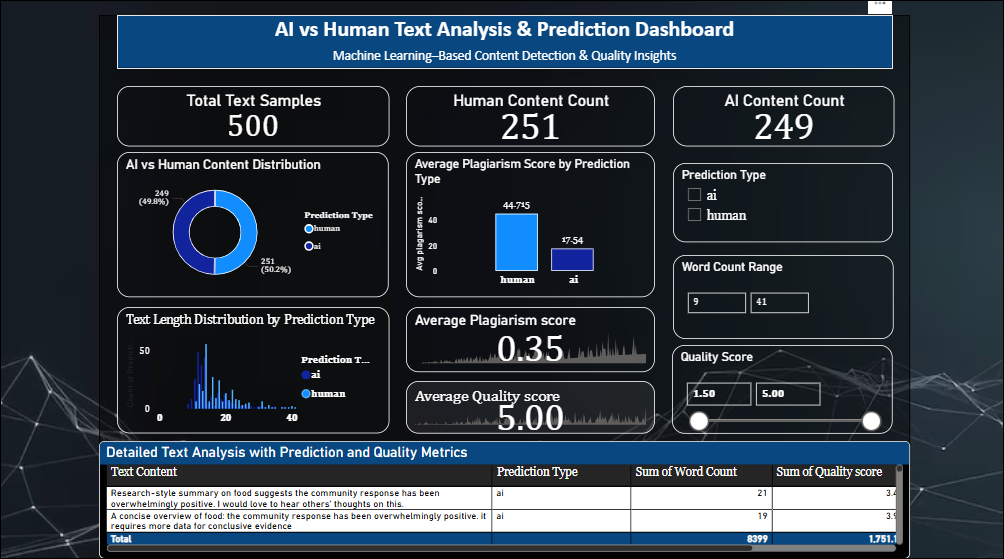

This screenshot's page, from the dashboard's own definition file:
{"tool":"powerbi","page":{"name":"Page 1","canvas":[1280,720],"ordinal":0},"visuals":[{"type":"textbox","box":[127.5,28,1032.7,657.9],"z":0},{"type":"kpi","title":"Total Text Samples","fields":{"Indicator":["CountNonNull(ai_vs_human_dashboard.prediction)"],"TrendLine":["ai_vs_human_dashboard.prediction_Type"]},"box":[149.7,118.8,346.8,77.3],"z":1000},{"type":"kpi","title":"AI Content Count","fields":{"TrendLine":["ai_vs_human_dashboard.prediction_Type"],"Indicator":["CountNonNull(ai_vs_human_dashboard.prediction_Type)"]},"box":[857.8,118.8,282.1,77.3],"z":2000},{"type":"kpi","title":"Human Content Count","fields":{"Indicator":["CountNonNull(ai_vs_human_dashboard.prediction)"],"TrendLine":["ai_vs_human_dashboard.prediction_Type"]},"box":[517.8,118.8,316.9,77.3],"z":3000},{"type":"donutChart","title":"AI vs Human Content Distribution","fields":{"Y":["CountNonNull(ai_vs_human_dashboard.prediction)"],"Category":["ai_vs_human_dashboard.Prediction Type"]},"box":[150.7,202.9,345.8,185.5],"z":4000},{"type":"clusteredColumnChart","title":"Text Length Distribution by Prediction Type","fields":{"Category":["ai_vs_human_dashboard.length_words"],"Y":["CountNonNull(ai_vs_human_dashboard.prediction)"],"Series":["ai_vs_human_dashboard.prediction"]},"box":[149.7,399.9,346.8,161.3],"z":5000},{"type":"tableEx","title":"Detailed Text Analysis with Prediction and Quality Metrics","fields":{"Values":["ai_vs_human_dashboard.clean_text","ai_vs_human_dashboard.prediction","Sum(ai_vs_human_dashboard.length_words)","Sum(ai_vs_human_dashboard.quality_score)","Sum(ai_vs_human_dashboard.plagiarism_score)"]},"box":[127.5,570,1032.7,149.7],"z":6000},{"type":"clusteredColumnChart","title":"Average Plagiarism Score by Prediction Type","fields":{"Y":["Sum(ai_vs_human_dashboard.Plagiarism score)"],"Category":["ai_vs_human_dashboard.Prediction Type"]},"box":[517.8,202.9,316.9,185.5],"z":7000},{"type":"slicer","title":"Prediction Type","fields":{"Values":["ai_vs_human_dashboard.Prediction Type"]},"box":[857.8,216.4,280.2,101.4],"z":8000},{"type":"slicer","title":"Word Count Range","fields":{"Values":["ai_vs_human_dashboard.Word Count"]},"box":[857.8,334.2,281.1,107.2],"z":9000},{"type":"slicer","title":"Quality Score","fields":{"Values":["ai_vs_human_dashboard.Quality score"]},"box":[856.9,448.2,281.1,113],"z":10000},{"type":"kpi","title":"Average Quality score","fields":{"Indicator":["Sum(ai_vs_human_dashboard.Quality score)"],"TrendLine":["ai_vs_human_dashboard.Quality score"]},"box":[517.8,494.6,316.9,66.7],"z":11000},{"type":"kpi","title":"Average Plagiarism score","fields":{"Indicator":["Sum(ai_vs_human_dashboard.Plagiarism score)"],"TrendLine":["ai_vs_human_dashboard.Plagiarism score"]},"box":[517.8,399.9,316.9,83.1],"z":12000},{"type":"textbox","title":"AI vs Human Text Analysis & Prediction Dashboard","box":[150.7,28,987.3,68.6],"z":13000}]}

Visuals, with their boxes in screenshot pixels (x1, y1, x2, y2), scaled from the page's 1280x720 canvas onto the 1004x559 screenshot:
textbox: {"x1": 100, "y1": 22, "x2": 910, "y2": 533}
"Total Text Samples" kpi: {"x1": 117, "y1": 92, "x2": 389, "y2": 152}
"AI Content Count" kpi: {"x1": 673, "y1": 92, "x2": 894, "y2": 152}
"Human Content Count" kpi: {"x1": 406, "y1": 92, "x2": 655, "y2": 152}
"AI vs Human Content Distribution" donutChart: {"x1": 118, "y1": 158, "x2": 389, "y2": 302}
"Text Length Distribution by Prediction Type" clusteredColumnChart: {"x1": 117, "y1": 310, "x2": 389, "y2": 436}
"Detailed Text Analysis with Prediction and Quality Metrics" tableEx: {"x1": 100, "y1": 443, "x2": 910, "y2": 558}
"Average Plagiarism Score by Prediction Type" clusteredColumnChart: {"x1": 406, "y1": 158, "x2": 655, "y2": 302}
"Prediction Type" slicer: {"x1": 673, "y1": 168, "x2": 893, "y2": 247}
"Word Count Range" slicer: {"x1": 673, "y1": 259, "x2": 893, "y2": 343}
"Quality Score" slicer: {"x1": 672, "y1": 348, "x2": 893, "y2": 436}
"Average Quality score" kpi: {"x1": 406, "y1": 384, "x2": 655, "y2": 436}
"Average Plagiarism score" kpi: {"x1": 406, "y1": 310, "x2": 655, "y2": 375}
"AI vs Human Text Analysis & Prediction Dashboard" textbox: {"x1": 118, "y1": 22, "x2": 893, "y2": 75}
